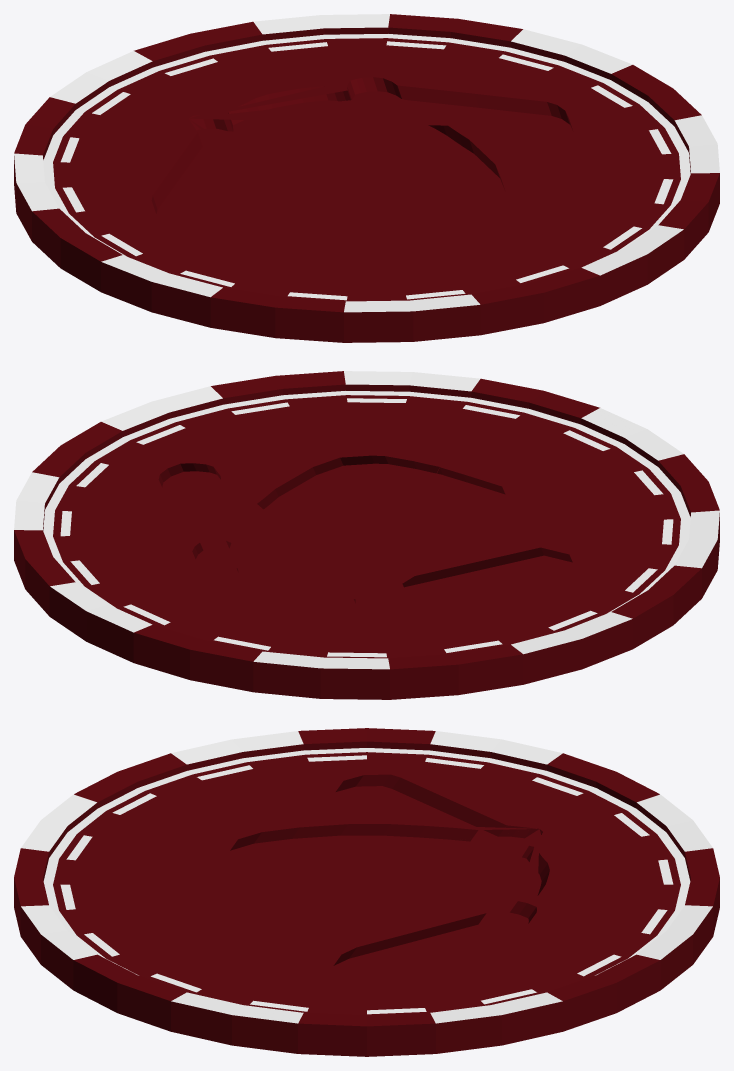
Rendered from red chip stack (single).fbx.
3 renders of one model, top to bottom at view 1: azimuth 30°, elevation 25°; view 2: azimuth 150°, elevation 25°; view 3: azimuth 270°, elevation 25°, orthographic.
Visible parts, largest first — view 1: Cylinder.002; view 2: Cylinder.002; view 3: Cylinder.002.
Boxes of the visible parts, x1,y1,x2,y2 form: Cylinder.002: [14, 14, 719, 342]; Cylinder.002: [14, 371, 719, 699]; Cylinder.002: [14, 728, 719, 1056].
Size of the model in its own units: 200 by 10.96 by 200.
